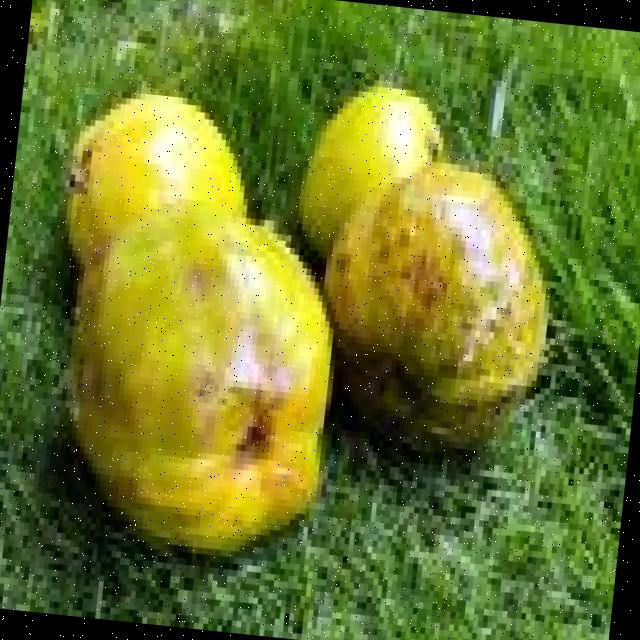Bad_Guava 0 day: (75, 165, 551, 563)
Good_Guava 5-7 days: (56, 97, 250, 281), (287, 90, 441, 281)
